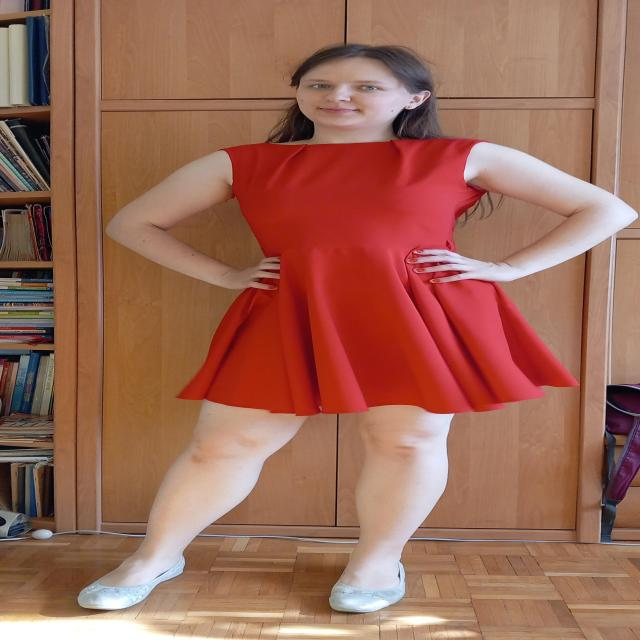dress: (176, 138, 581, 418)
